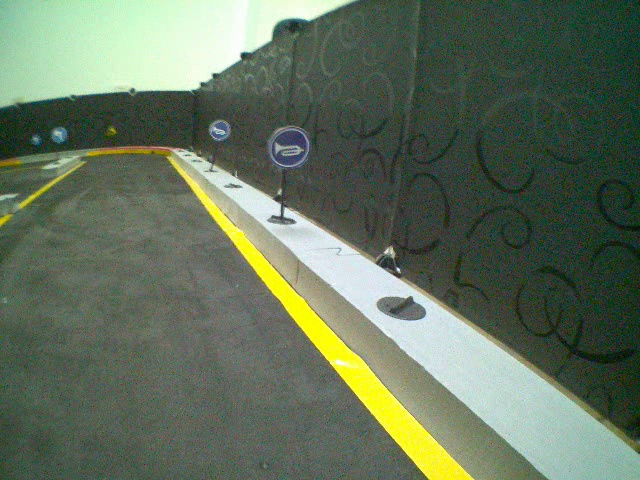horn: (267, 124, 311, 169), (208, 118, 230, 142)
turn: (50, 125, 69, 145)
